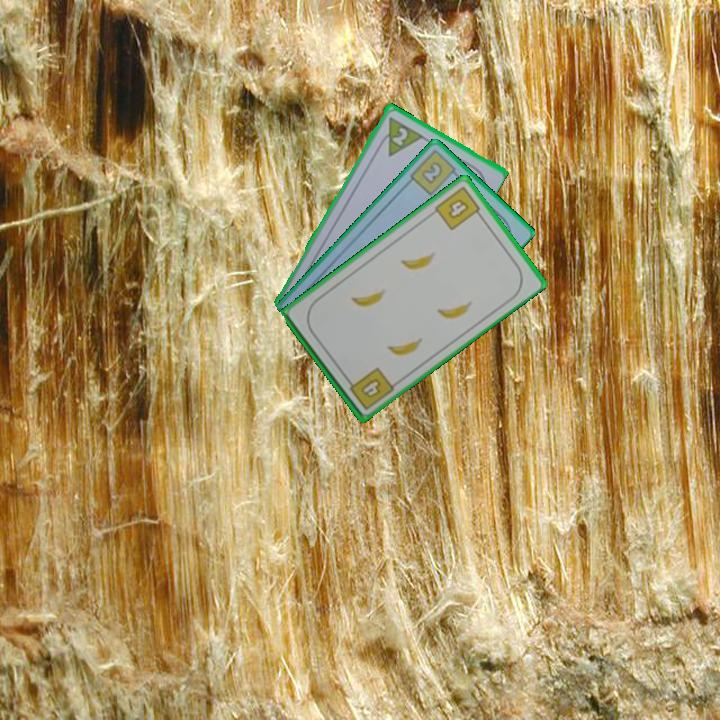2b: (406, 146, 463, 199)
2p: (388, 123, 411, 148)
4b: (431, 182, 486, 233), (342, 363, 397, 413)
